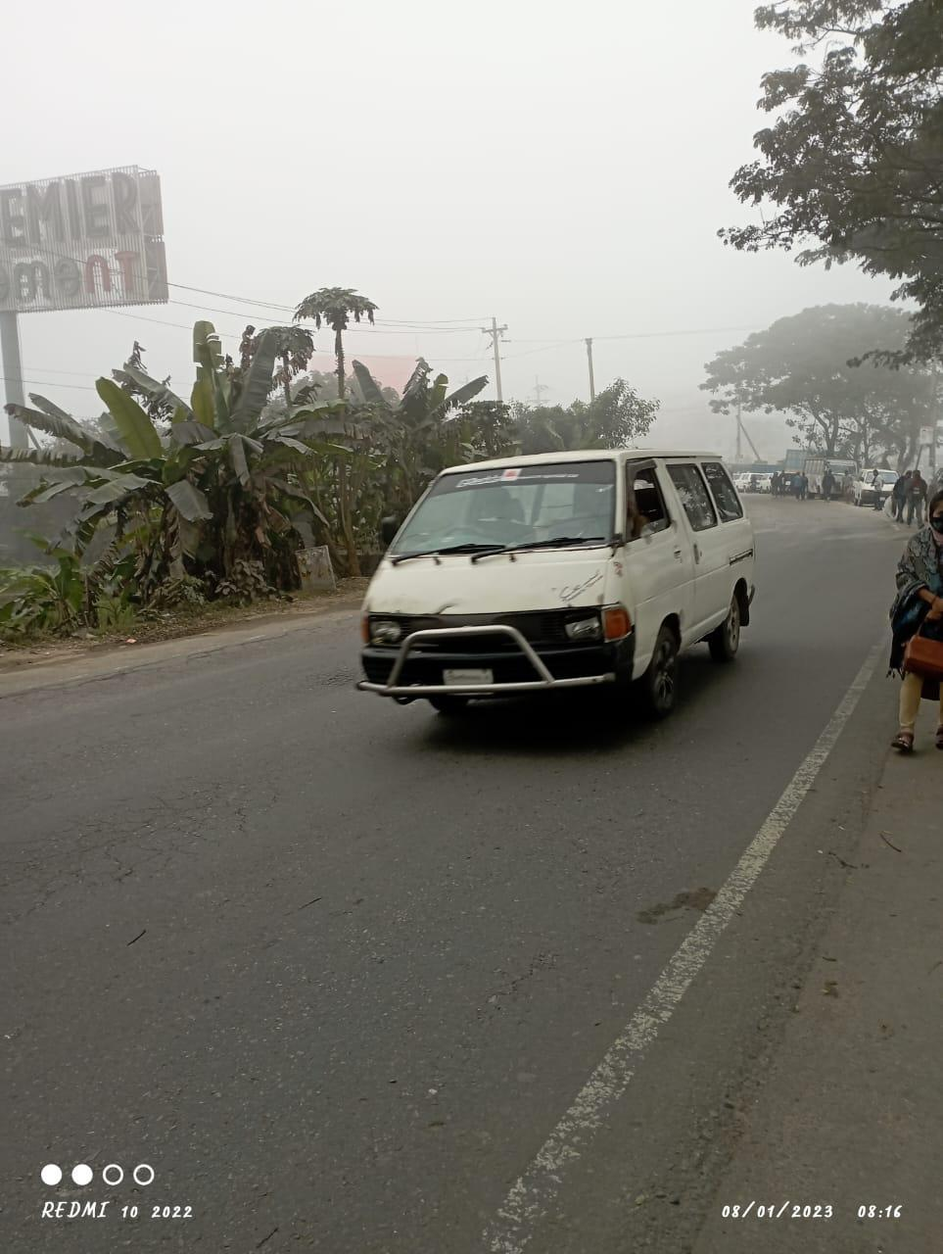Bus: (802, 454, 858, 499)
Car: (357, 440, 756, 716), (854, 464, 904, 512)
